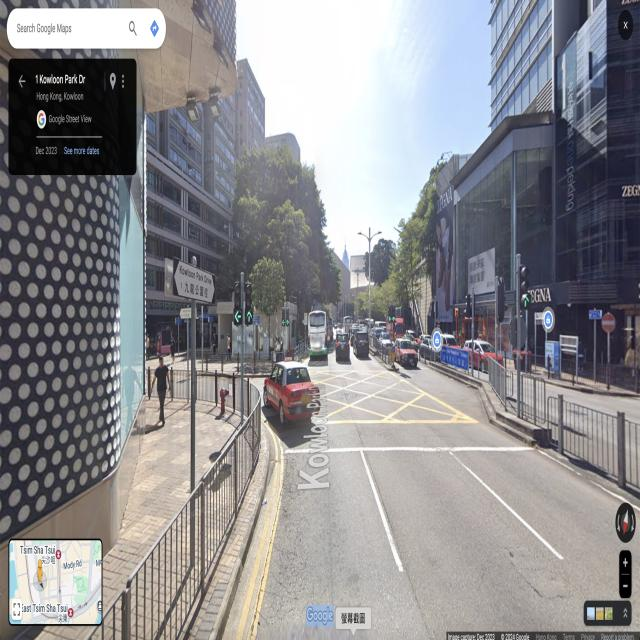Direction-Sign: (588, 309, 601, 319)
Order-Sign: (602, 312, 615, 332), (304, 312, 308, 326)
Street-Direction-Sign: (173, 256, 216, 304)
